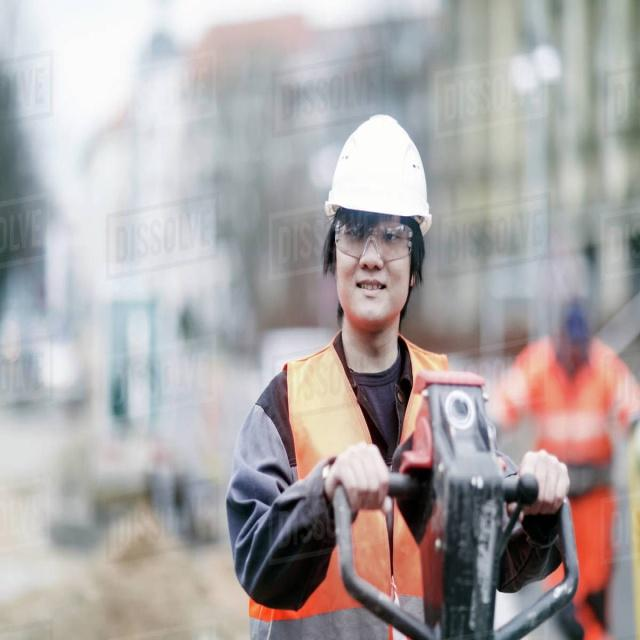helmet: (319, 146, 435, 442)
vest: (264, 455, 470, 640)
